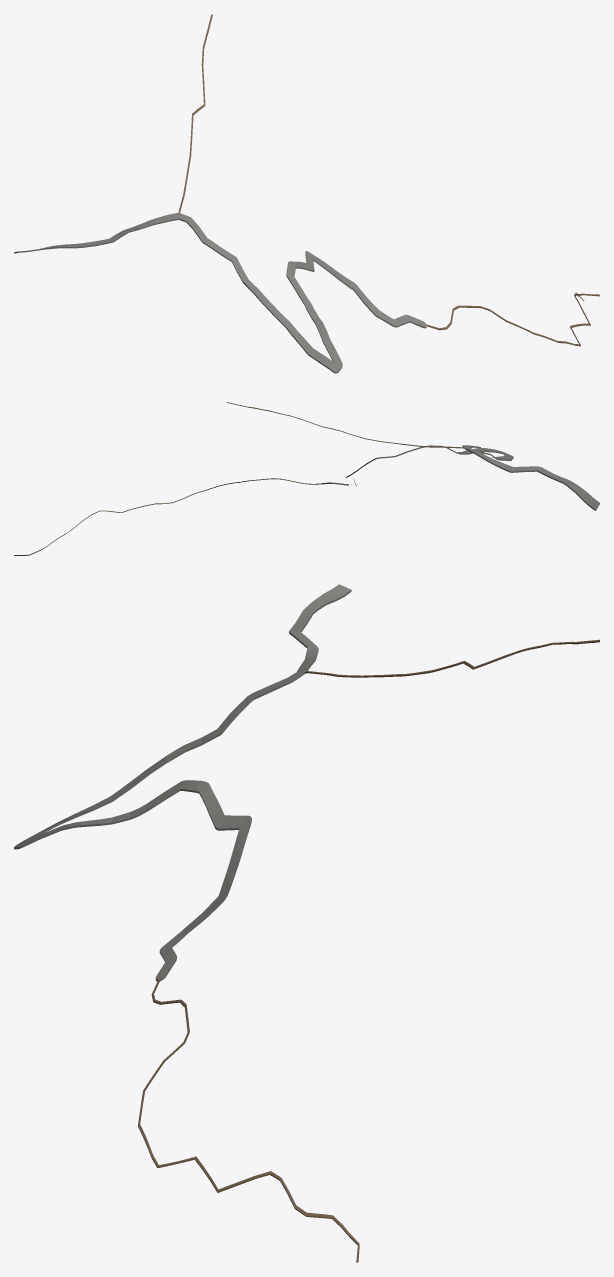
3 renders of one model, top to bottom at view 1: azimuth 30°, elevation 25°; view 2: azimuth 150°, elevation 25°; view 3: azimuth 270°, elevation 25°, orthographic. The views are drawn at different scales.
Bounding box in the file's own units: 538 × 256 × 328.
